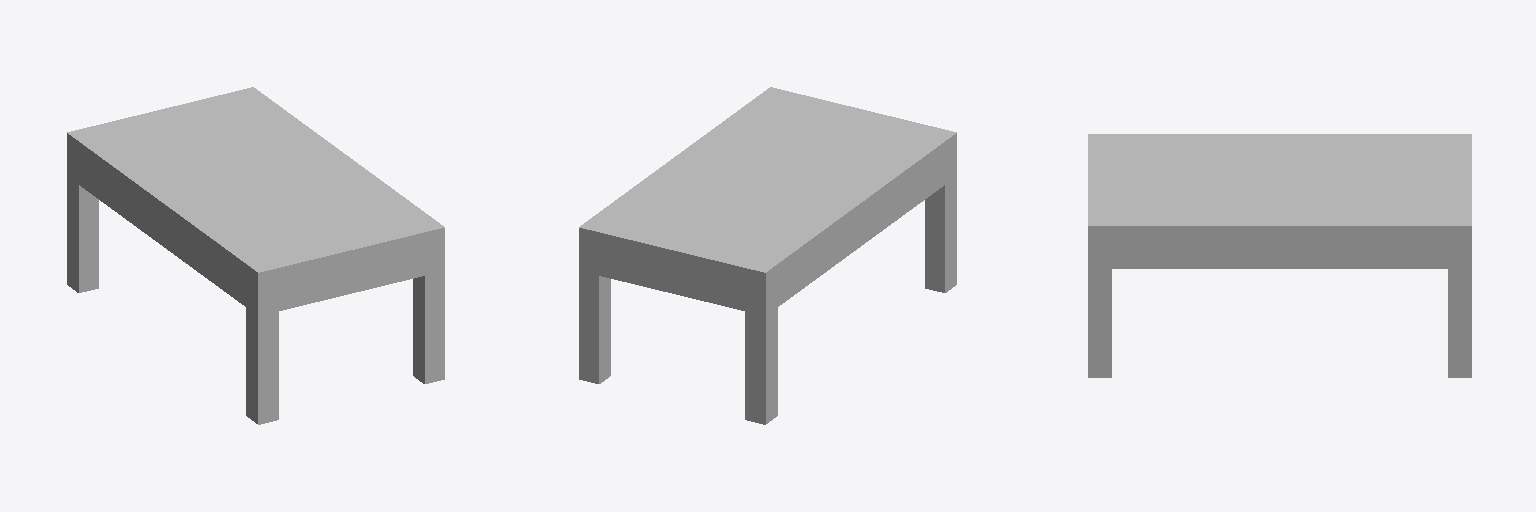
The model's file is BasicTable_v2.obj.
3 renders of one model, left to right at view 1: azimuth 30°, elevation 25°; view 2: azimuth 150°, elevation 25°; view 3: azimuth 270°, elevation 25°, orthographic.
Visible parts, largest first — view 1: object 1; view 2: object 1; view 3: object 1.
Boxes of the visible parts, box(x1,y1,x2,y2) form: object 1: box(67, 87, 444, 424); object 1: box(579, 87, 956, 424); object 1: box(1088, 134, 1471, 377).
Size of the model in its own units: 0.9 by 0.7 by 1.6.